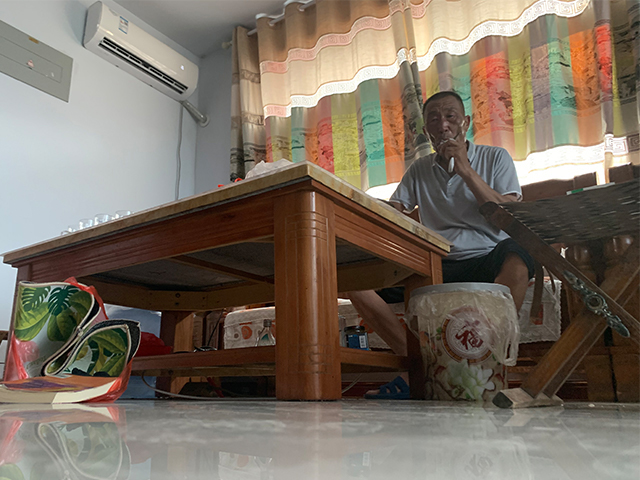book: (1, 371, 125, 407)
stool: (478, 177, 640, 410)
table: (1, 160, 453, 403)
trashcan: (405, 281, 521, 405)
